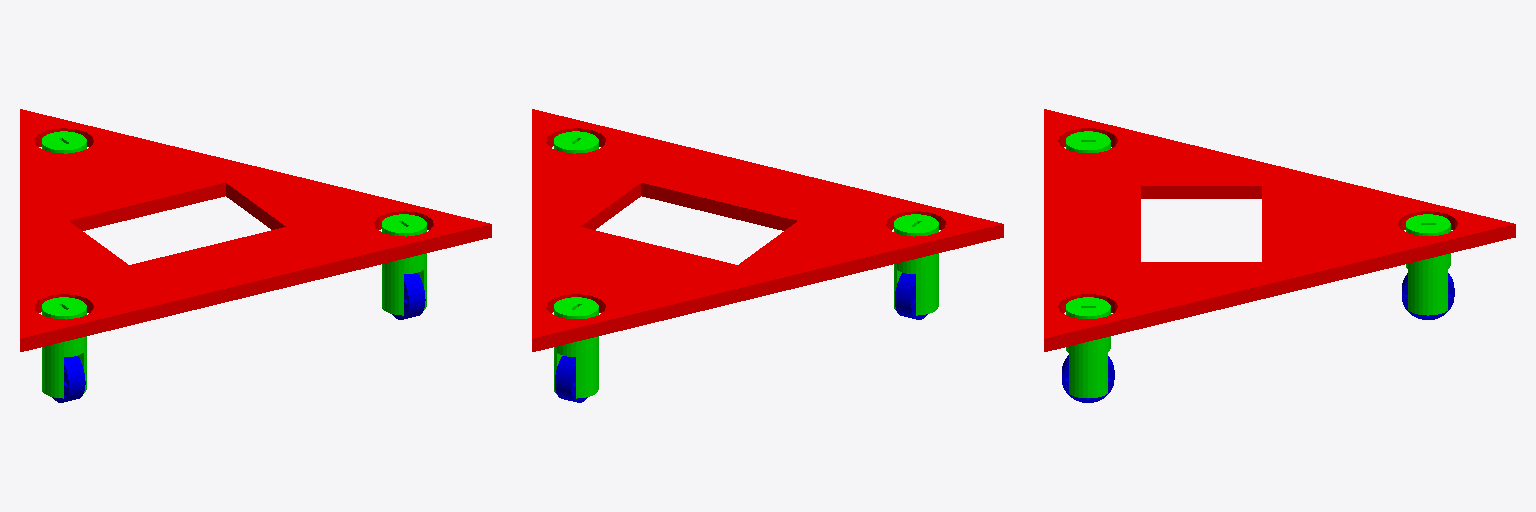
The robot description file, URDF, robot "swerve":
<?xml version="1.0" ?>
<!-- =================================================================================== -->
<!-- |    This document was autogenerated by xacro from [local-path]/Workspaces/swerve_ws/src/swerve/swerve_description/robots/swerve.urdf.xacro | -->
<!-- |    EDITING THIS FILE BY HAND IS NOT RECOMMENDED                                 | -->
<!-- =================================================================================== -->
<!-- 
Highest level XACRO file for the swerve robot
Author: [author] - [email redacted]
Created: 2017-07-15
-->
<robot name="swerve" xmlns:xacro="http://www.ros.org/wiki/xacro">
  <!-- 
    IMPORTS 
  -->
  <!-- Import constants and modeling macros -->
  <!-- Common geometry properties -->
  <!-- Color properties -->
  <!-- Common visual and collision properties -->
  <!-- Common joint properties -->
  <!-- Constants -->
  <!-- Import swerve robot -->
  <!-- Include constants and modeling macros -->
  <!-- Common geometry properties -->
  <!-- Color properties -->
  <!-- Common visual and collision properties -->
  <!-- Common joint properties -->
  <!-- Constants -->
  <!--
    WORLD DEFINITION
  -->
  <!-- Fixed dummy frame -->
  <link name="swerve_base"/>
  <!--
    MACRO DEFINITIONS
  -->
  <!-- Define macros for swerve import -->
  <!--
      DUMMY JOINT DEFINITION
    -->
  <joint name="swerve_base_joint" type="fixed">
    <origin rpy="0 0 0" xyz="0 0 0.17"/>
    <parent link="swerve_base"/>
    <child link="swerve_body"/>
  </joint>
  <!--
      CHASSIS DEFINITION
    -->
  <link name="swerve_body">
    <inertial>
      <origin rpy="0 0 0" xyz="9.6121E-17 -0.0127 -7.6853E-05"/>
      <mass value="7.0052"/>
      <inertia ixx="0.27011" ixy="1.9658E-19" ixz="1.4409E-16" iyy="0.5327" iyz="-3.5181E-19" izz="0.26334"/>
    </inertial>
    <visual>
      <origin rpy="0 0 0" xyz="0 0 0"/>
      <geometry>
        <mesh filename="package://swerve_description/meshes/chassis.stl"/>
      </geometry>
      <material name="">
        <color rgba="1 0 0 1"/>
      </material>
    </visual>
    <collision>
      <origin rpy="0 0 0" xyz="0 0 0"/>
      <geometry>
        <mesh filename="package://swerve_description/meshes/chassis.stl"/>
      </geometry>
    </collision>
  </link>
  <!--
      FRONT SWIVEL DEFINITION
    -->
  <joint name="swerve_joint_FS" type="continuous">
    <origin rpy="1.5708 0 0" xyz="0 0.381 0"/>
    <parent link="swerve_body"/>
    <child link="swerve_FS_link"/>
    <axis xyz="0 -1 0"/>
  </joint>
  <link name="swerve_FS_link">
    <inertial>
      <origin rpy="0 0 0" xyz="-5.819E-13 -0.062713 0"/>
      <mass value="0.449039"/>
      <inertia ixx="0.0010313" ixy="1.377E-13" ixz="4.6213E-21" iyy="0.00038801" iyz="-9.7714E-21" izz="0.001103"/>
    </inertial>
    <visual>
      <origin rpy="0 0 0" xyz="0 0 0"/>
      <geometry>
        <mesh filename="package://swerve_description/meshes/swivel.stl"/>
      </geometry>
      <material name="">
        <color rgba="0 1 0 1"/>
      </material>
    </visual>
    <collision>
      <origin rpy="0 0 0" xyz="0 0 0"/>
      <geometry>
        <mesh filename="package://swerve_description/meshes/swivel.stl"/>
      </geometry>
    </collision>
  </link>
  <joint name="swerve_joint_FW" type="continuous">
    <origin rpy="0 0 0" xyz="0 -0.127 0"/>
    <parent link="swerve_FS_link"/>
    <child link="swerve_FW_link"/>
    <axis xyz="-1 0 0"/>
  </joint>
  <link name="swerve_FW_link">
    <inertial>
      <origin rpy="0 0 0" xyz="-7.8185E-19 2.7756E-17 5.5511E-17"/>
      <mass value="0.15026"/>
      <inertia ixx="0.00016727" ixy="-4.9394E-22" ixz="-2.3462E-22" iyy="9.626E-05" iyz="-1.4682E-20" izz="9.626E-05"/>
    </inertial>
    <visual>
      <origin rpy="0 0 0" xyz="0 0 0"/>
      <geometry>
        <mesh filename="package://swerve_description/meshes/wheel.stl"/>
      </geometry>
      <material name="">
        <color rgba="0 0 1 1"/>
      </material>
    </visual>
    <collision>
      <origin rpy="0 0 0" xyz="0 0 0"/>
      <geometry>
        <mesh filename="package://swerve_description/meshes/wheel.stl"/>
      </geometry>
    </collision>
  </link>
  <!--
      LEFT SWIVEL DEFINITION
    -->
  <joint name="swerve_joint_LS" type="continuous">
    <origin rpy="1.5708 0 0" xyz="-0.32996 -0.1905 0"/>
    <parent link="swerve_body"/>
    <child link="swerve_LS_link"/>
    <axis xyz="0 -1 0"/>
  </joint>
  <link name="swerve_LS_link">
    <inertial>
      <origin rpy="0 0 0" xyz="-5.8187E-13 -0.062713 0"/>
      <mass value="0.449039"/>
      <inertia ixx="0.0010313" ixy="1.377E-13" ixz="1.6475E-20" iyy="0.00038801" iyz="2.1123E-20" izz="0.001103"/>
    </inertial>
    <visual>
      <origin rpy="0 0 0" xyz="0 0 0"/>
      <geometry>
        <mesh filename="package://swerve_description/meshes/swivel.stl"/>
      </geometry>
      <material name="">
        <color rgba="0 1 0 1"/>
      </material>
    </visual>
    <collision>
      <origin rpy="0 0 0" xyz="0 0 0"/>
      <geometry>
        <mesh filename="package://swerve_description/meshes/swivel.stl"/>
      </geometry>
    </collision>
  </link>
  <joint name="swerve_joint_LW" type="continuous">
    <origin rpy="0 0 0" xyz="0 -0.127 0"/>
    <parent link="swerve_LS_link"/>
    <child link="swerve_LW_link"/>
    <axis xyz="-1 0 0"/>
  </joint>
  <link name="swerve_LW_link">
    <inertial>
      <origin rpy="0 0 0" xyz="0 2.7756E-17 0"/>
      <mass value="0.15026"/>
      <inertia ixx="0.00016727" ixy="-1.3787E-22" ixz="-1.031E-22" iyy="9.626E-05" iyz="-3.3087E-21" izz="9.626E-05"/>
    </inertial>
    <visual>
      <origin rpy="0 0 0" xyz="0 0 0"/>
      <geometry>
        <mesh filename="package://swerve_description/meshes/wheel.stl"/>
      </geometry>
      <material name="">
        <color rgba="0 0 1 1"/>
      </material>
    </visual>
    <collision>
      <origin rpy="0 0 0" xyz="0 0 0"/>
      <geometry>
        <mesh filename="package://swerve_description/meshes/wheel.stl"/>
      </geometry>
    </collision>
  </link>
  <!--
      RIGHT SWIVEL DEFINITION
    -->
  <joint name="swerve_joint_RS" type="continuous">
    <origin rpy="1.5708 0 0" xyz="0.32996 -0.1905 0"/>
    <parent link="swerve_body"/>
    <child link="swerve_RS_link"/>
    <axis xyz="0 -1 0"/>
  </joint>
  <link name="swerve_RS_link">
    <inertial>
      <origin rpy="0 0 0" xyz="-5.8192E-13 -0.062713 -2.7756E-17"/>
      <mass value="0.449039"/>
      <inertia ixx="0.0010313" ixy="1.377E-13" ixz="1.6475E-20" iyy="0.00038801" iyz="2.1123E-20" izz="0.001103"/>
    </inertial>
    <visual>
      <origin rpy="0 0 0" xyz="0 0 0"/>
      <geometry>
        <mesh filename="package://swerve_description/meshes/swivel.stl"/>
      </geometry>
      <material name="">
        <color rgba="0 1 0 1"/>
      </material>
    </visual>
    <collision>
      <origin rpy="0 0 0" xyz="0 0 0"/>
      <geometry>
        <mesh filename="package://swerve_description/meshes/swivel.stl"/>
      </geometry>
    </collision>
  </link>
  <joint name="swerve_joint_RW" type="continuous">
    <origin rpy="0 0 0" xyz="0 -0.127 0"/>
    <parent link="swerve_RS_link"/>
    <child link="swerve_RW_link"/>
    <axis xyz="-1 0 0"/>
  </joint>
  <link name="swerve_RW_link">
    <inertial>
      <origin rpy="0 0 0" xyz="-5.5511E-17 2.7756E-17 -2.7756E-17"/>
      <mass value="0.15026"/>
      <inertia ixx="0.00016727" ixy="-1.3787E-22" ixz="-1.031E-22" iyy="9.626E-05" iyz="-3.3087E-21" izz="9.626E-05"/>
    </inertial>
    <visual>
      <origin rpy="0 0 0" xyz="0 0 0"/>
      <geometry>
        <mesh filename="package://swerve_description/meshes/wheel.stl"/>
      </geometry>
      <material name="">
        <color rgba="0 0 1 1"/>
      </material>
    </visual>
    <collision>
      <origin rpy="0 0 0" xyz="0 0 0"/>
      <geometry>
        <mesh filename="package://swerve_description/meshes/wheel.stl"/>
      </geometry>
    </collision>
  </link>
</robot>

--- What the picture shows (computed from the rendered views, not written in the file) ---
The picture shows the robot from 3 angles, left to right: view 1: azimuth 30°, elevation 25°; view 2: azimuth 150°, elevation 25°; view 3: azimuth 270°, elevation 25°; orthographic projection.
Robot: swerve — 8 links, 7 joints (6 continuous, 1 fixed); root link swerve_base; default pose: every joint at zero.
Links seen in each view (by area): view 1: swerve_body, swerve_RS_link, swerve_LS_link, swerve_LW_link, swerve_RW_link, swerve_FS_link; view 2: swerve_body, swerve_FS_link, swerve_LS_link, swerve_LW_link, swerve_FW_link, swerve_RS_link; view 3: swerve_body, swerve_FS_link, swerve_RS_link, swerve_LS_link, swerve_RW_link.
Link boxes in pixels (box(x1,y1,x2,y2)): swerve_body: box(20, 109, 491, 351); swerve_RS_link: box(382, 214, 426, 315); swerve_LS_link: box(42, 297, 86, 398); swerve_LW_link: box(52, 356, 85, 402); swerve_RW_link: box(392, 273, 425, 319); swerve_FS_link: box(42, 131, 86, 153); swerve_body: box(532, 109, 1003, 351); swerve_FS_link: box(554, 297, 598, 398); swerve_LS_link: box(894, 214, 938, 315); swerve_LW_link: box(895, 273, 927, 319); swerve_FW_link: box(555, 356, 587, 402); swerve_RS_link: box(554, 131, 598, 153); swerve_body: box(1044, 109, 1515, 351); swerve_FS_link: box(1406, 214, 1450, 315); swerve_RS_link: box(1066, 297, 1110, 397); swerve_LS_link: box(1066, 131, 1110, 152); swerve_RW_link: box(1062, 355, 1114, 402).
Size in the robot's own frame: 0.9144 by 0.7919 by 0.1713 metres.
Meshes: 3 distinct files referenced, 7 mesh visuals loaded (3 binary STL).